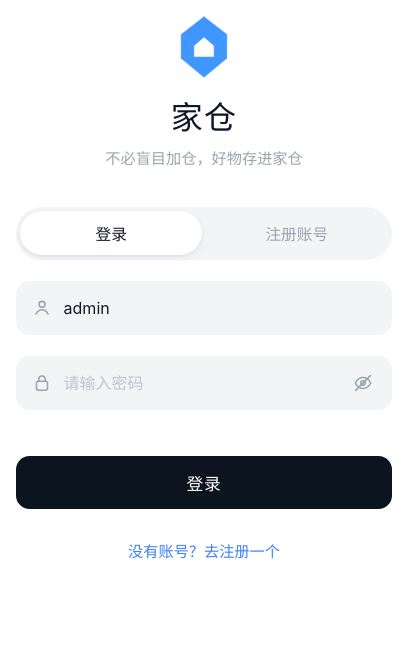
Test: 登录页 › switches to register mode from the footer link
The width and height of the screenshot is (409, 651).
Expected: the button "登录" is shown, left=16, top=456, right=392, bottom=509
Click the button "没有账号？去注册一个". click: coordinates (204, 550)
box: left=120, top=533, right=288, bottom=566
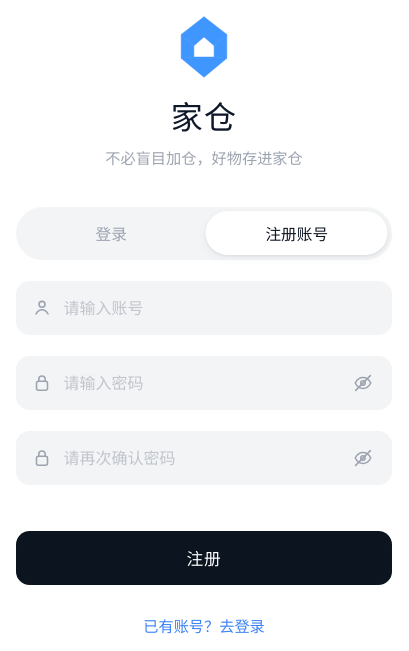
Expected: the button "注册" is shown, left=16, top=531, right=392, bottom=584
